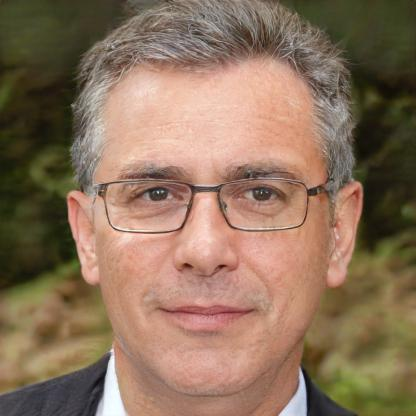glasses: (90, 172, 324, 236)
